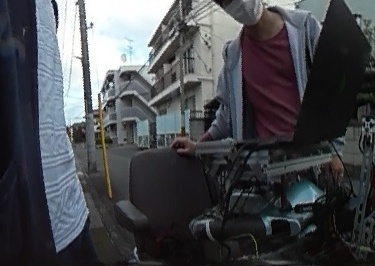person: (209, 3, 330, 155)
